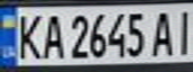2: (66, 10, 90, 60)
4: (106, 9, 130, 58)
5: (124, 9, 151, 58)
6: (87, 10, 109, 58)
A: (148, 7, 178, 56), (39, 10, 66, 61)
I: (169, 6, 193, 55)
K: (12, 10, 45, 61)
